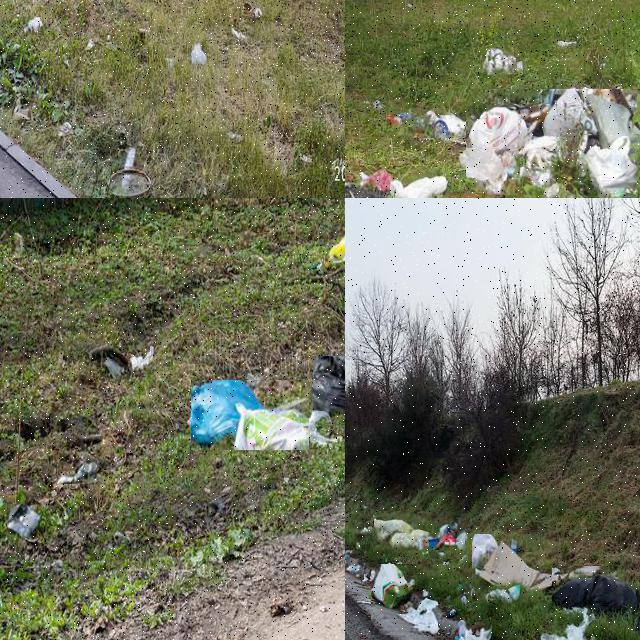lixeira: (467, 88, 639, 197), (192, 381, 310, 452), (473, 534, 560, 604), (371, 565, 439, 637), (375, 512, 467, 552), (553, 567, 638, 610), (345, 168, 448, 197), (388, 102, 467, 139), (111, 147, 149, 197), (313, 356, 344, 413), (345, 500, 366, 582), (541, 613, 597, 639), (480, 45, 524, 75), (8, 504, 40, 539), (57, 459, 98, 485), (456, 621, 514, 639), (325, 223, 344, 268), (193, 41, 208, 65), (24, 18, 42, 32)
